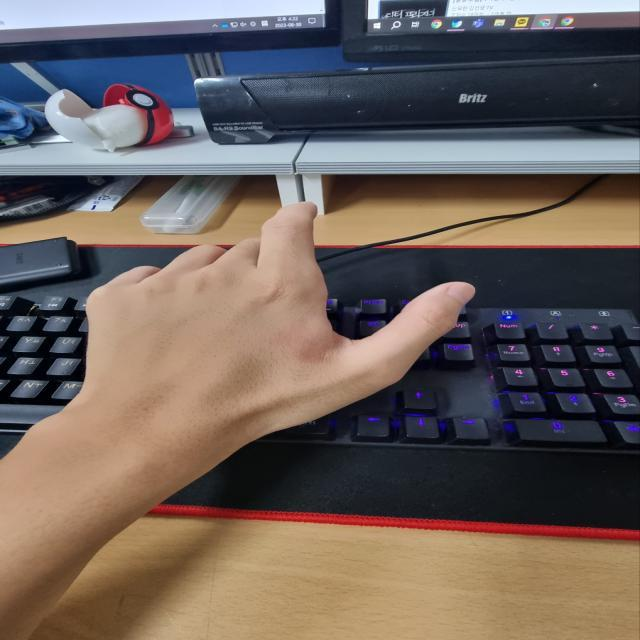keyboard-with-hands: (0, 295, 640, 450)
